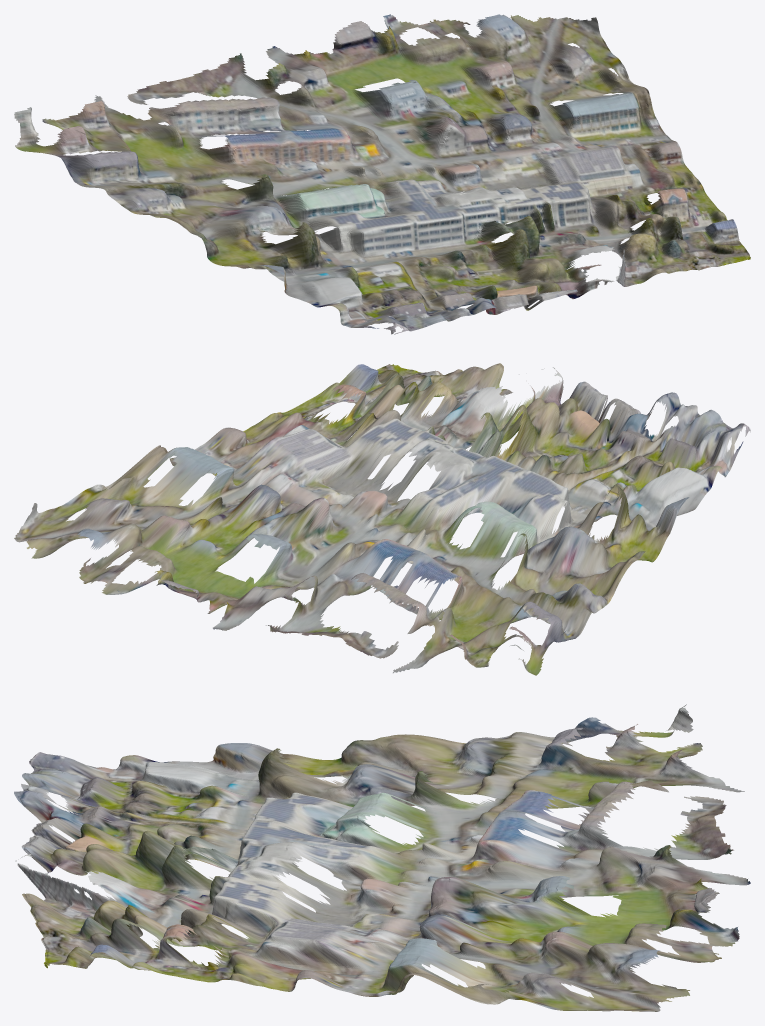
File: map_clean.glb
3 renders of one model, top to bottom at view 1: azimuth 30°, elevation 25°; view 2: azimuth 150°, elevation 25°; view 3: azimuth 270°, elevation 25°, orthographic. The views are drawn at different scales.
Parts seen in each view (by area): view 1: geometry_0; view 2: geometry_0; view 3: geometry_0.
Part boxes in pixels (box(x1,y1,x2,y2)): geometry_0: box(14, 14, 750, 334); geometry_0: box(14, 363, 750, 675); geometry_0: box(14, 704, 750, 1011).
Bounding box in the file's own units: 13.52 × 1.02 × 14.75.
